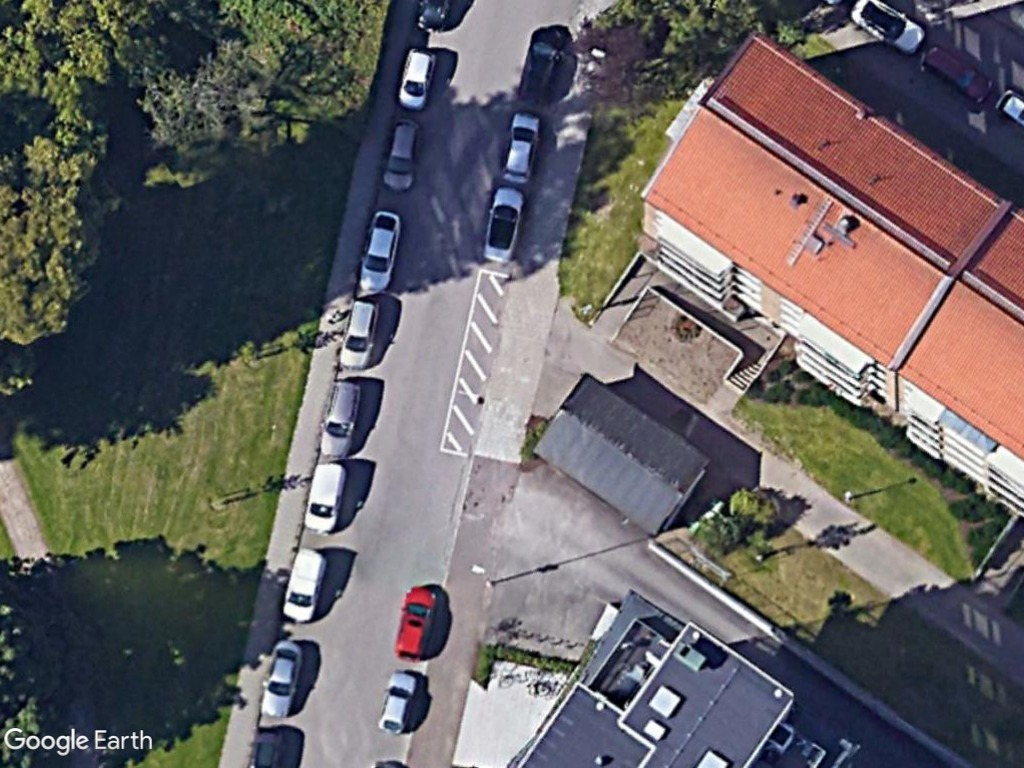car: (917, 38, 999, 106), (257, 635, 311, 724), (480, 182, 531, 266), (318, 373, 366, 461), (356, 206, 402, 294), (335, 291, 384, 373), (391, 583, 441, 662), (498, 107, 545, 188), (379, 114, 425, 195), (396, 41, 440, 111), (376, 668, 421, 736)
van: (513, 22, 568, 109), (279, 542, 331, 628), (303, 457, 353, 539)
